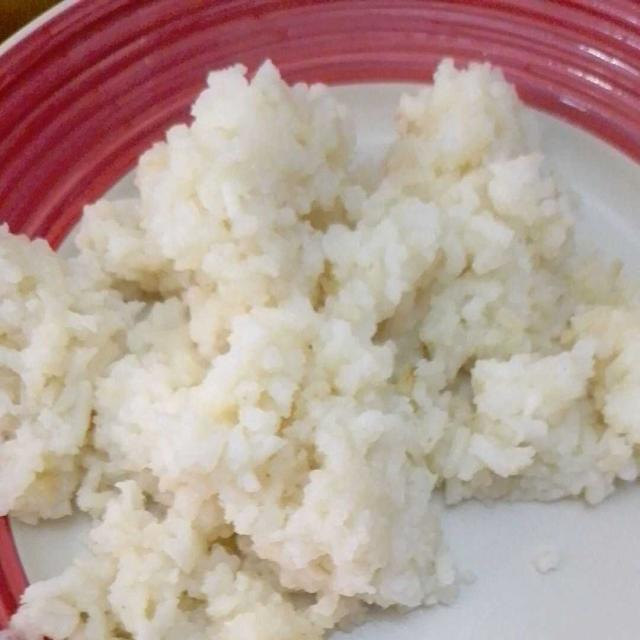arroz: (56, 67, 613, 614)
